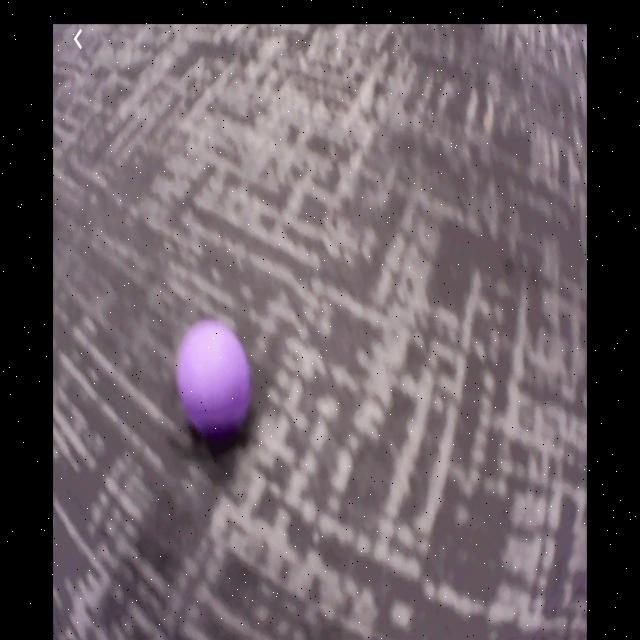ball: (177, 320, 252, 436)
